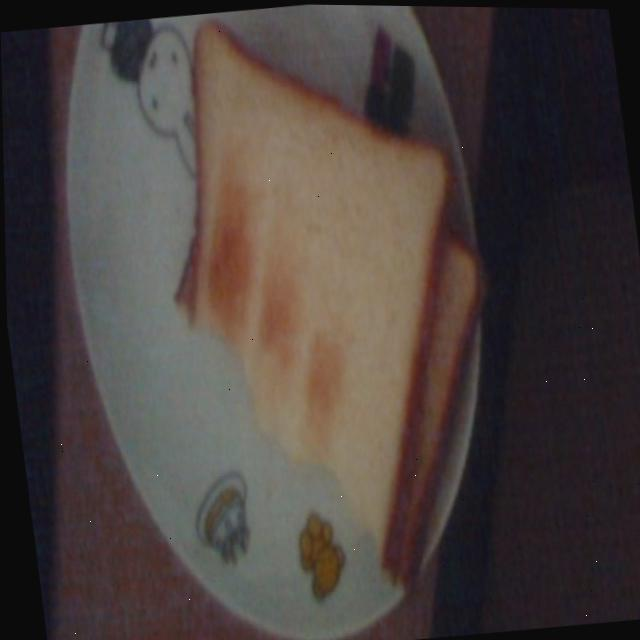面包点心: (137, 2, 507, 613)
